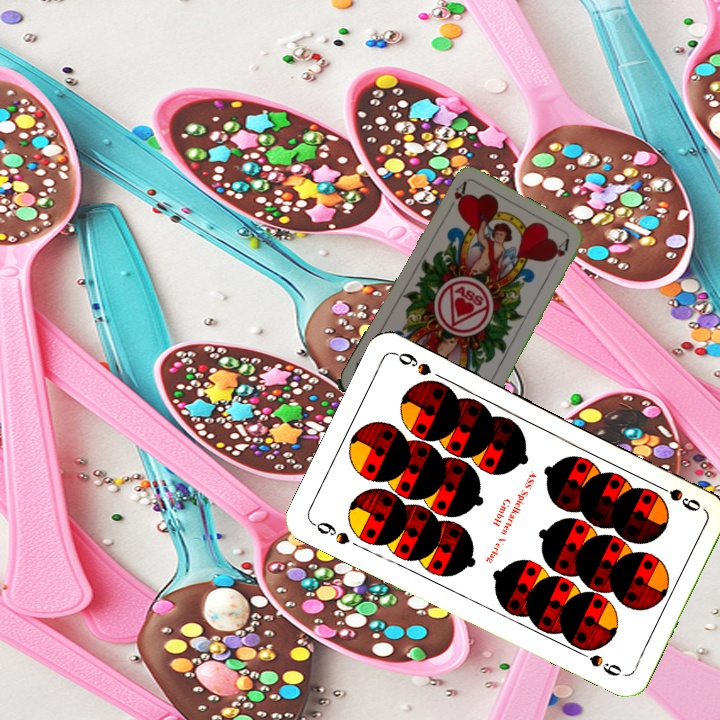HA: (443, 178, 469, 216)
S9: (650, 479, 703, 515), (308, 517, 353, 547)
